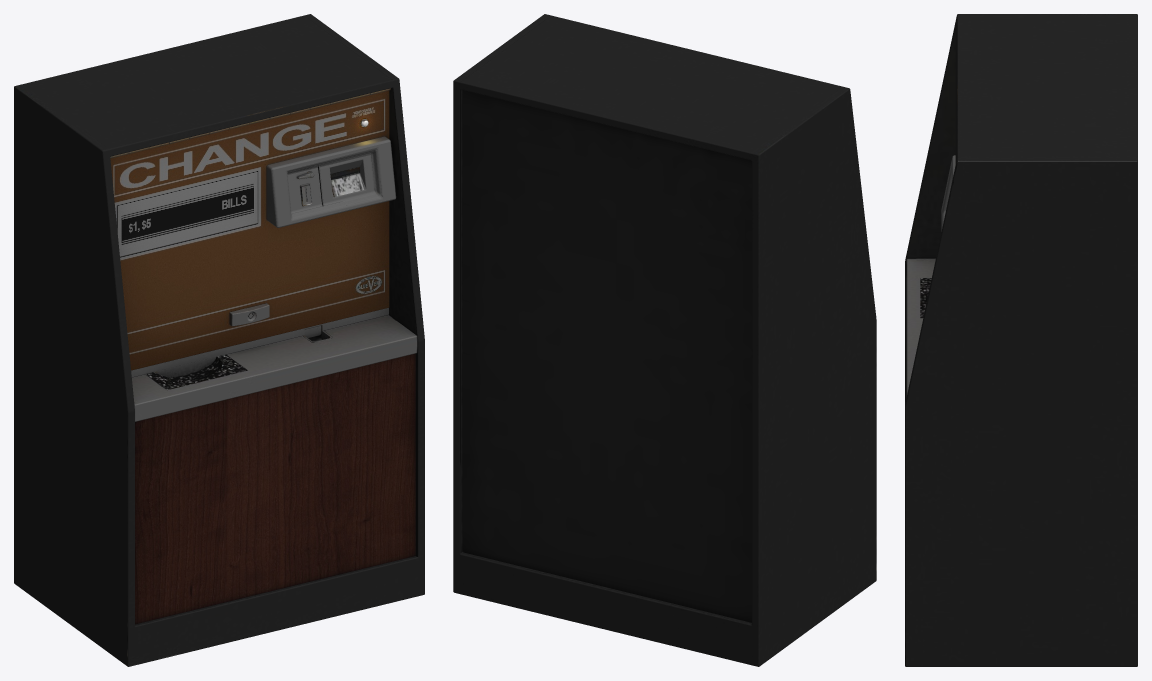
Rendered from change-machine.dae.
The picture shows the model from 3 angles, left to right: view 1: azimuth 30°, elevation 25°; view 2: azimuth 150°, elevation 25°; view 3: azimuth 270°, elevation 25°; orthographic projection. The views are drawn at different scales.
Parts seen in each view (by area): view 1: cabinet_001; view 2: cabinet_001; view 3: cabinet_001.
Boxes of the visible parts, x1=… form: cabinet_001: x1=14, y1=14, x2=424, y2=666; cabinet_001: x1=453, y1=14, x2=876, y2=666; cabinet_001: x1=905, y1=14, x2=1137, y2=666.
Bounding box in the file's own units: 0.9075 × 0.605 × 1.45.
1 material, 1 textured.
